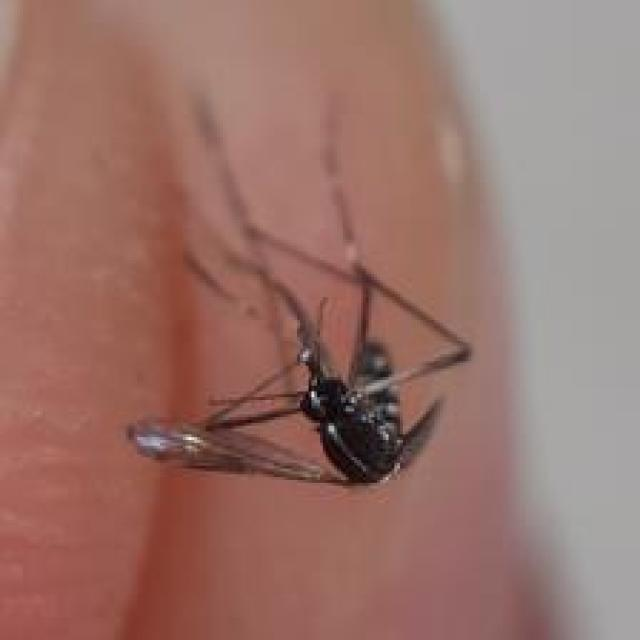Aedes albopictus: (126, 83, 471, 488)
